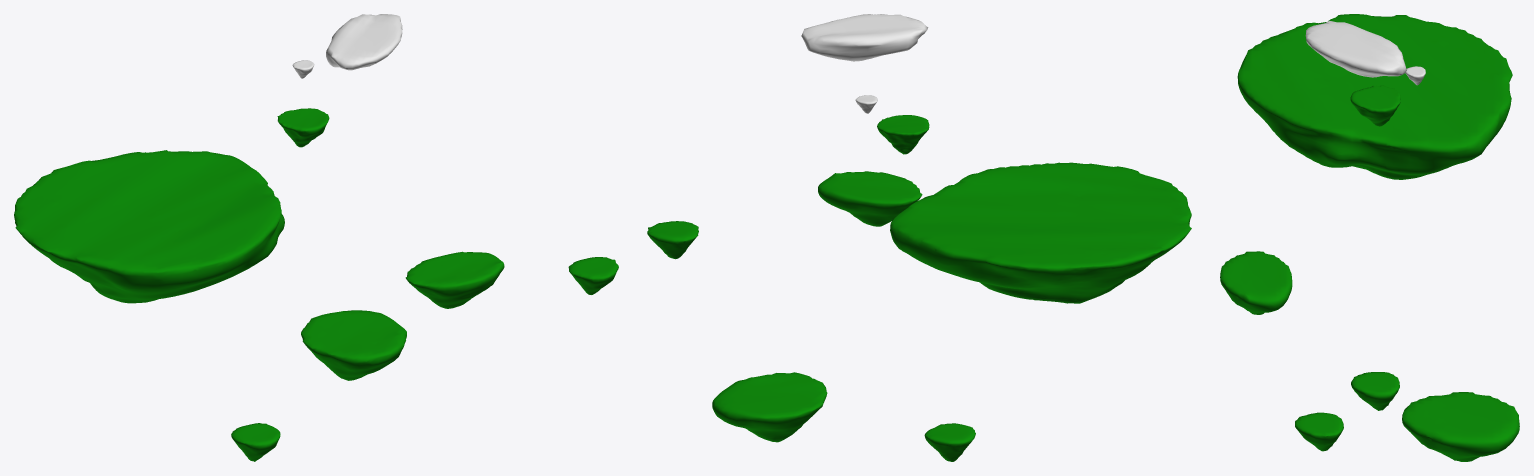
The model's file is Vislands.fbx.
3 views of the same model, side by side, from view 1: azimuth 30°, elevation 25°; view 2: azimuth 150°, elevation 25°; view 3: azimuth 270°, elevation 25° (orthographic). The views are drawn at different scales.
Visible parts, largest first — view 1: Cone, Cone.002, Cone.004, Cone.007, Cone.008, Cone.001, Cone.003; view 2: Cone, Cone.002, Cone.007, Cone.004, Cone.008, Cone.001, Cone.003; view 3: Cone, Cone.002, Cone.007, Cone.004, Cone.008, Cone.003, Cone.001.
Part boxes in pixels (left/top/right/bottom): Cone: left=14, top=150, right=284, bottom=303; Cone.002: left=301, top=310, right=406, bottom=380; Cone.004: left=405, top=251, right=504, bottom=308; Cone.007: left=326, top=14, right=402, bottom=70; Cone.008: left=277, top=108, right=329, bottom=147; Cone.001: left=568, top=257, right=618, bottom=294; Cone.003: left=231, top=423, right=280, bottom=461; Cone: left=890, top=162, right=1191, bottom=303; Cone.002: left=712, top=372, right=827, bottom=442; Cone.007: left=801, top=14, right=928, bottom=61; Cone.004: left=818, top=171, right=922, bottom=226; Cone.008: left=877, top=115, right=929, bottom=154; Cone.001: left=647, top=221, right=698, bottom=259; Cone.003: left=924, top=423, right=975, bottom=461; Cone: left=1237, top=14, right=1512, bottom=179; Cone.002: left=1402, top=392, right=1519, bottom=461; Cone.007: left=1305, top=20, right=1406, bottom=77; Cone.004: left=1220, top=251, right=1292, bottom=314; Cone.008: left=1350, top=85, right=1400, bottom=126; Cone.003: left=1351, top=372, right=1399, bottom=410; Cone.001: left=1295, top=412, right=1343, bottom=451.
Size of the model in its own units: 15588 by 10911 by 7068.
